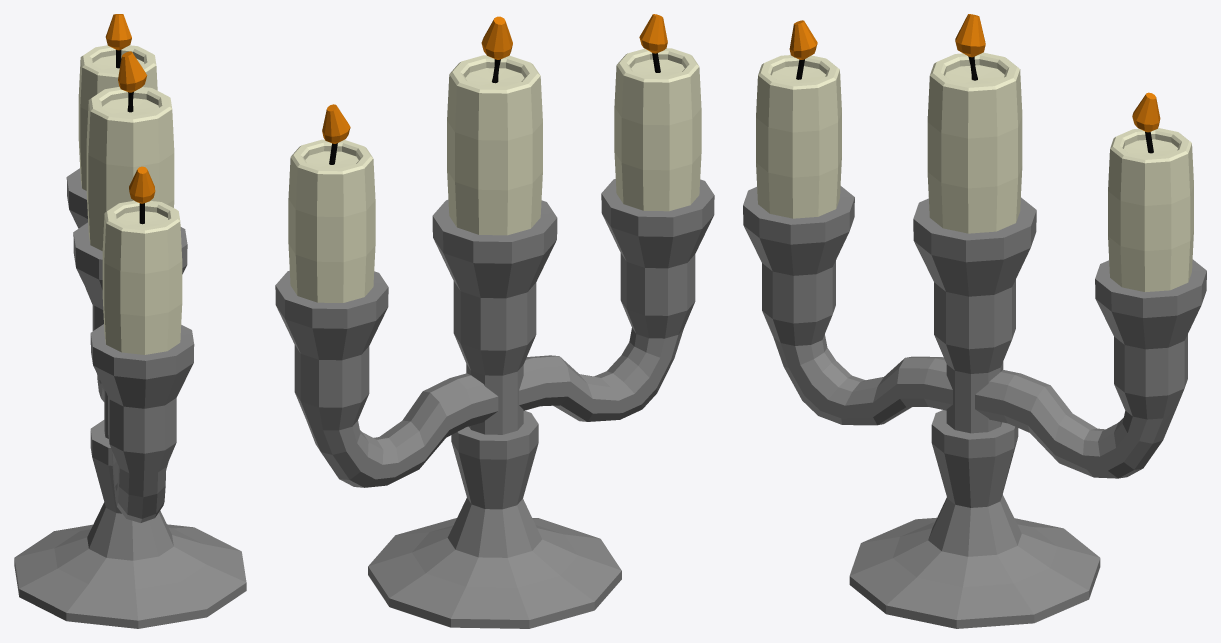
Rendered from velas.fbx.
The picture shows the model from 3 angles, left to right: view 1: azimuth 30°, elevation 25°; view 2: azimuth 150°, elevation 25°; view 3: azimuth 270°, elevation 25°; orthographic projection. The views are drawn at different scales.
Parts seen in each view (by area): view 1: Circle.004; view 2: Circle.004; view 3: Circle.004.
Boxes of the visible parts, box(x1,y1,x2,y2) form: Circle.004: box(14, 14, 246, 628); Circle.004: box(275, 14, 714, 628); Circle.004: box(743, 14, 1206, 628).
Size of the model in its own units: 151 by 325 by 244.
